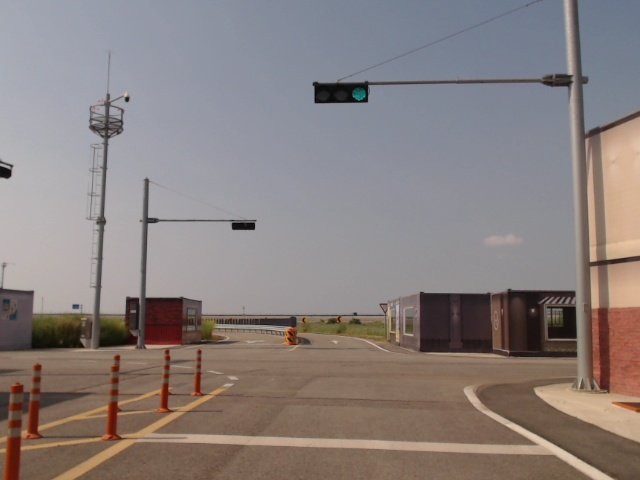green_3: (314, 83, 368, 103)
